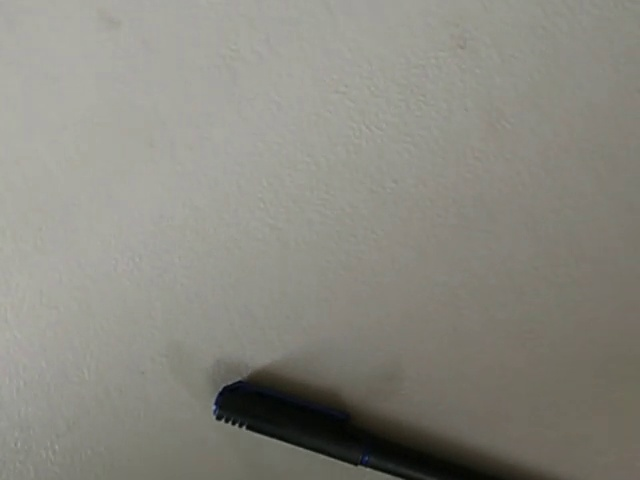Pen: (201, 380, 525, 475)
